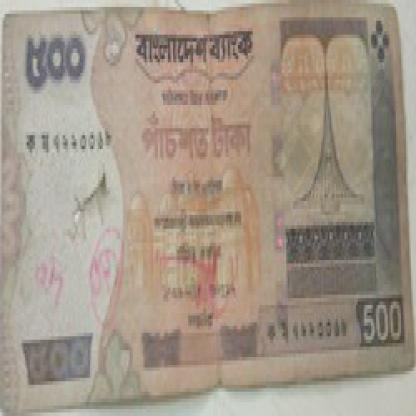500 taka: (135, 104, 266, 170), (16, 42, 107, 104), (351, 288, 409, 357)
currency: (0, 7, 415, 393)
